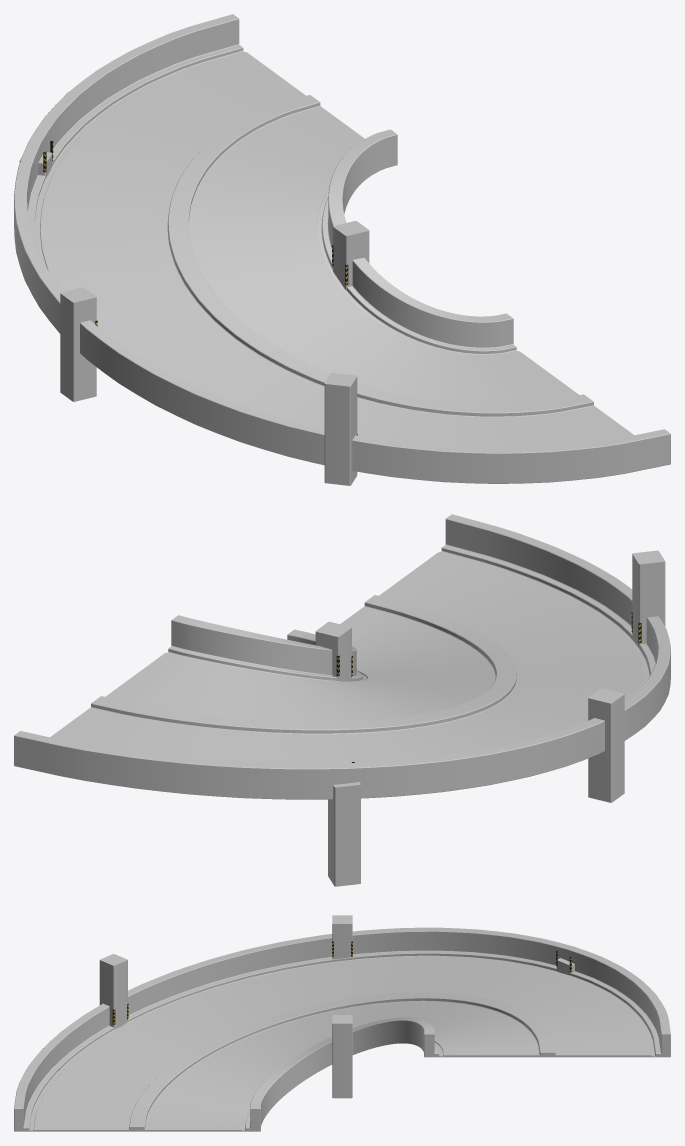
Rendered from CP_SpiralRamp_01a_snaps019.fbx.
3 views of the same model, one above another, from view 1: azimuth 30°, elevation 25°; view 2: azimuth 150°, elevation 25°; view 3: azimuth 270°, elevation 25° (orthographic). The views are drawn at different scales.
Visible parts, largest first — view 1: CP_SpiralRamp_01a_snaps019_LOD0; view 2: CP_SpiralRamp_01a_snaps019_LOD0; view 3: CP_SpiralRamp_01a_snaps019_LOD0.
Boxes of the visible parts, x1,y1,x2,y2 form: CP_SpiralRamp_01a_snaps019_LOD0: (14,14,670,485); CP_SpiralRamp_01a_snaps019_LOD0: (14,514,670,886); CP_SpiralRamp_01a_snaps019_LOD0: (14,915,670,1131).
Size of what is drawn, in the model's own units: 1627 by 525 by 3200.
